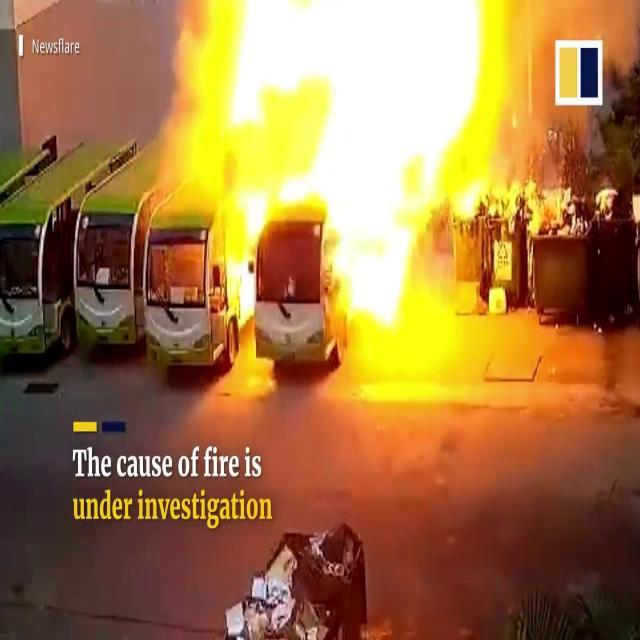Fire: (164, 0, 516, 377)
